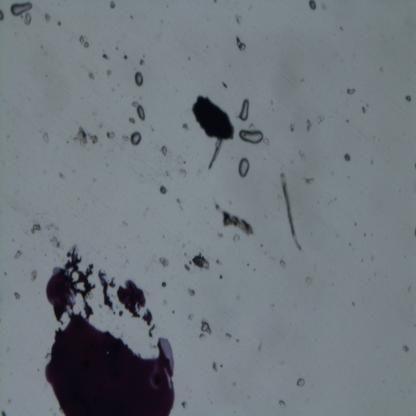Air bubble: (238, 128, 263, 144), (11, 2, 33, 16), (238, 98, 250, 122), (238, 156, 250, 179), (133, 71, 144, 88), (130, 132, 142, 147), (137, 103, 146, 120)
Background material: (223, 210, 254, 235), (208, 138, 222, 169), (73, 126, 89, 149), (192, 253, 210, 270), (200, 319, 213, 335), (48, 236, 62, 250), (234, 35, 245, 51), (87, 130, 99, 144), (159, 257, 170, 270), (232, 11, 242, 25), (77, 36, 89, 47), (31, 224, 44, 234), (176, 196, 184, 209), (30, 268, 37, 281), (211, 360, 218, 373), (296, 378, 306, 387), (308, 0, 317, 10), (277, 398, 286, 408), (306, 117, 312, 132), (14, 249, 21, 261), (43, 12, 51, 22), (13, 291, 21, 301), (178, 168, 186, 178), (346, 87, 356, 95), (289, 122, 297, 132), (186, 312, 194, 322), (24, 11, 30, 24), (43, 132, 49, 144), (106, 130, 115, 138), (305, 276, 313, 285), (220, 80, 228, 89), (401, 344, 410, 352), (161, 146, 168, 156), (160, 184, 166, 195), (232, 235, 240, 243), (122, 134, 130, 142), (344, 154, 352, 162), (187, 287, 194, 296), (362, 104, 368, 114), (129, 117, 136, 125), (280, 259, 287, 267), (318, 115, 325, 123), (215, 204, 221, 213), (181, 399, 187, 408), (306, 178, 315, 184), (132, 101, 139, 108), (215, 258, 222, 265), (88, 72, 94, 80), (264, 137, 270, 145), (110, 0, 115, 9), (0, 10, 4, 21), (161, 281, 167, 288), (1, 409, 7, 416), (405, 95, 412, 101), (225, 334, 232, 340), (184, 263, 190, 270), (257, 344, 262, 352), (199, 332, 204, 340), (59, 172, 64, 179), (218, 232, 223, 239), (140, 58, 144, 66), (322, 2, 326, 10), (107, 69, 112, 75), (102, 54, 108, 59), (183, 124, 188, 130), (57, 21, 62, 27), (339, 26, 344, 32), (232, 381, 237, 387), (277, 194, 282, 199), (370, 158, 374, 164), (124, 54, 128, 60), (407, 285, 410, 293), (235, 337, 239, 343), (352, 301, 356, 307), (371, 254, 374, 262), (219, 274, 223, 280), (414, 226, 416, 237), (187, 56, 191, 61), (228, 200, 232, 205), (183, 252, 187, 257), (380, 66, 383, 72), (130, 15, 134, 19), (271, 304, 275, 308), (220, 364, 224, 368), (4, 271, 7, 276), (172, 309, 175, 314), (21, 14, 24, 19), (346, 119, 349, 124), (354, 221, 357, 226), (115, 47, 118, 51), (347, 176, 350, 180), (247, 262, 250, 266), (247, 395, 250, 399), (348, 243, 352, 246), (214, 0, 218, 3), (361, 258, 364, 262), (253, 268, 256, 272), (190, 260, 192, 265), (184, 160, 186, 164), (364, 233, 366, 237), (414, 164, 416, 168), (261, 245, 263, 247)
Cellulose filter fibre: (277, 170, 302, 254)
Fragment: (190, 94, 234, 141)
Pen: (41, 242, 177, 416)
